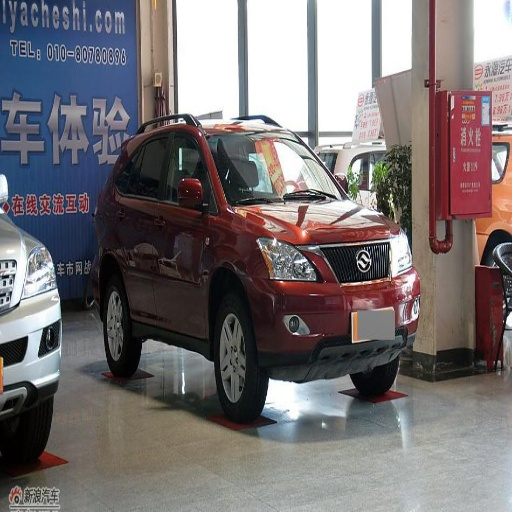back_left_light: (119, 127, 167, 320)
back_right_light: (250, 240, 416, 367), (4, 291, 61, 405)
front_bumper: (206, 131, 345, 202)
front_left_door: (364, 233, 412, 277)
front_left_light: (157, 126, 210, 331)
front_right_door: (259, 237, 319, 281)
front_right_light: (236, 198, 397, 244)
trunk: (214, 289, 268, 429), (105, 283, 140, 379), (0, 400, 51, 461), (354, 365, 396, 396)
